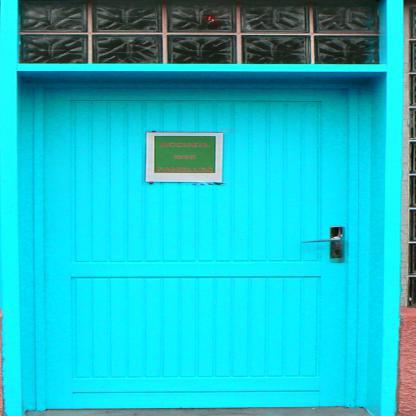door: (22, 77, 385, 414)
lever: (301, 238, 342, 246)
